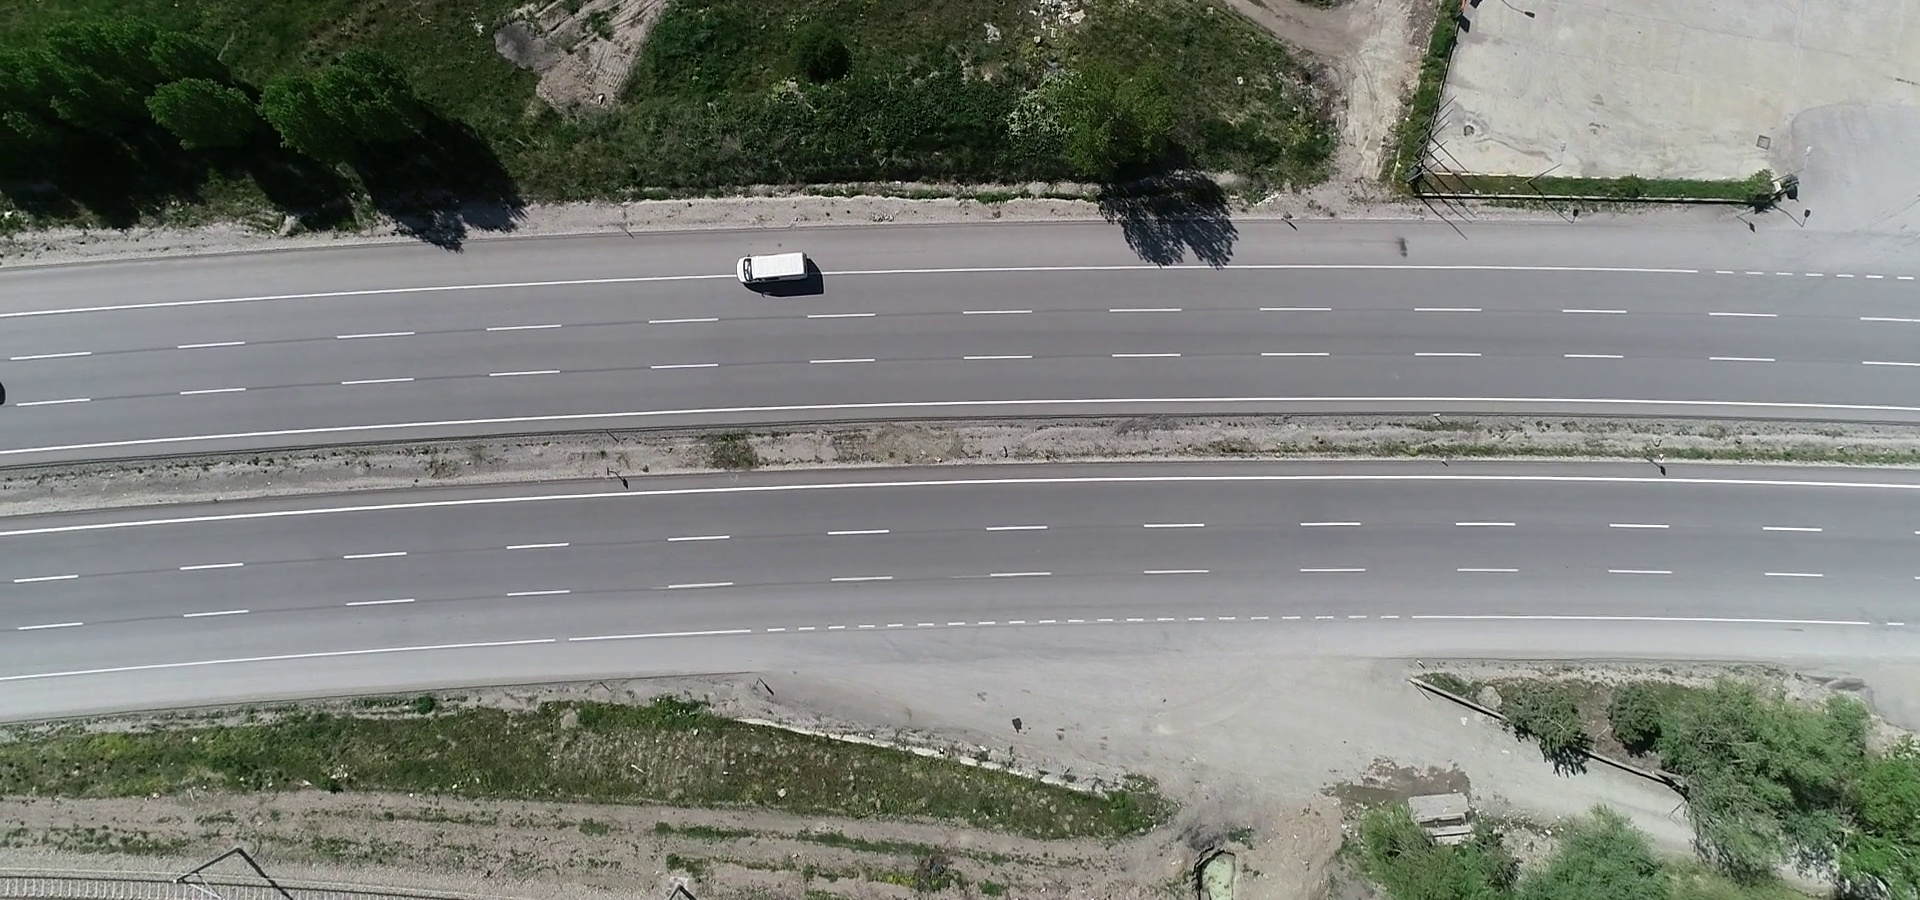araba: (733, 244, 816, 295)
